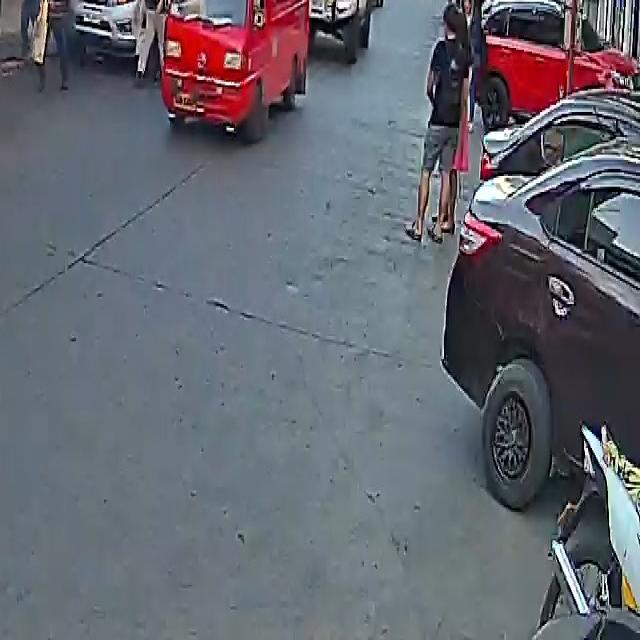car: (443, 77, 640, 522), (472, 0, 636, 130), (68, 0, 189, 68), (285, 0, 385, 64)
